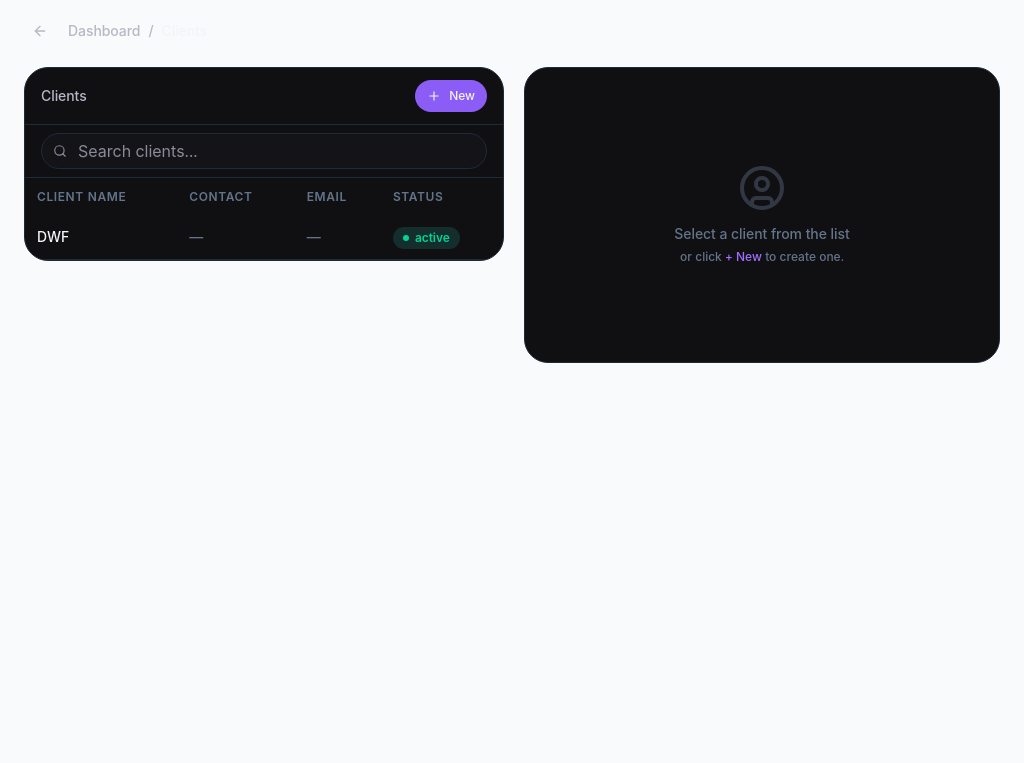
Test: ClientManagementPage reporting currency › shows the trusted-role mismatch instead of attempting a direct write
This screenshot has width=1024, height=763.
Click the text "DWF" at coordinates (53, 237), box [37, 228, 69, 246]
(page scrolled)
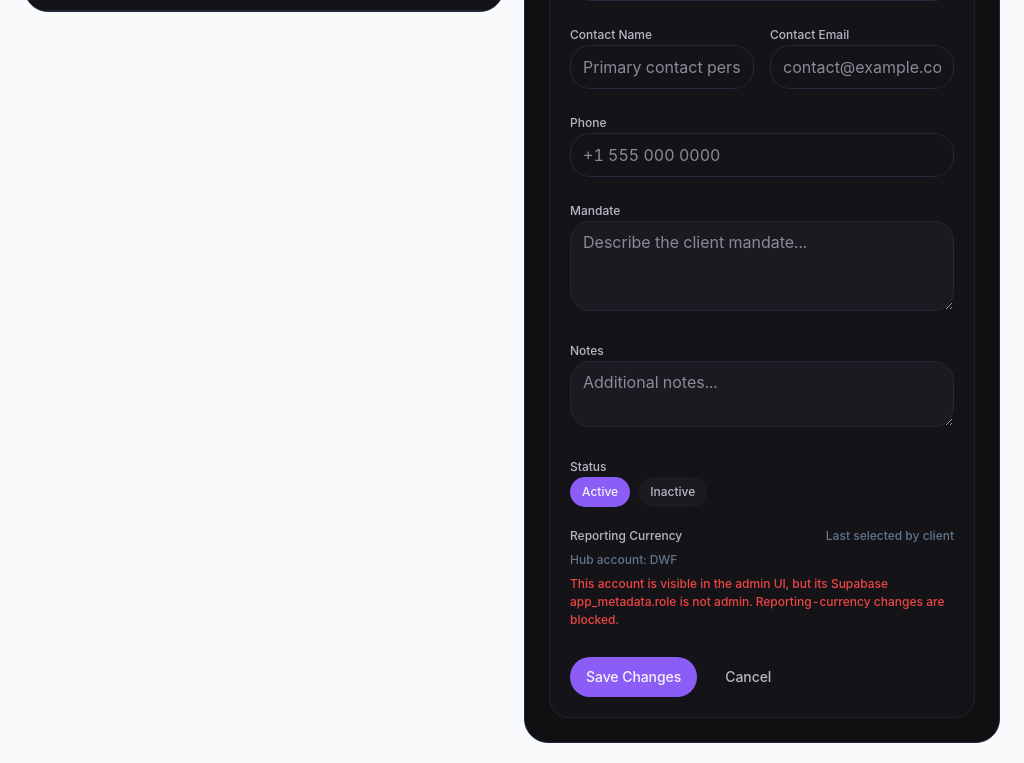
Check: the text "app_metadata.role is not admin" is shown, box [570, 576, 944, 627]
